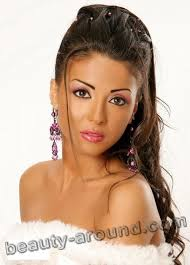middle_eastern_Female: (54, 36, 134, 147)
